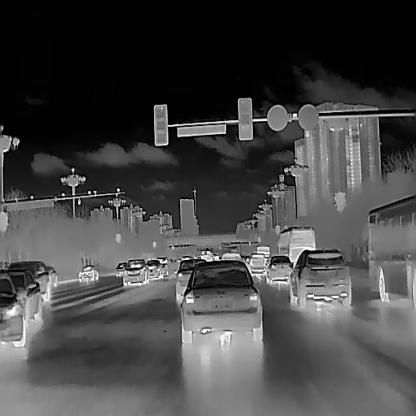bus: (362, 192, 414, 308), (276, 224, 316, 266), (254, 243, 270, 258)
car: (180, 258, 262, 342), (287, 245, 351, 306), (0, 267, 28, 347), (1, 268, 42, 320), (8, 259, 52, 302), (173, 257, 208, 300), (264, 253, 292, 282), (122, 258, 149, 285), (245, 250, 267, 274), (77, 263, 98, 281), (146, 258, 162, 278), (46, 265, 59, 285), (220, 249, 240, 260), (114, 261, 127, 275)
truck: (199, 248, 212, 261)
